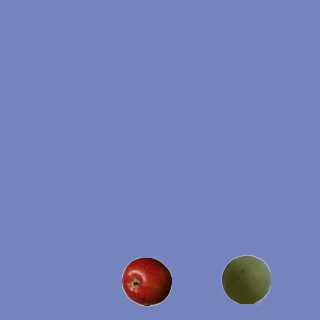Apple Braeburn: (121, 256, 171, 306)
Grape White 4: (220, 254, 270, 304)
